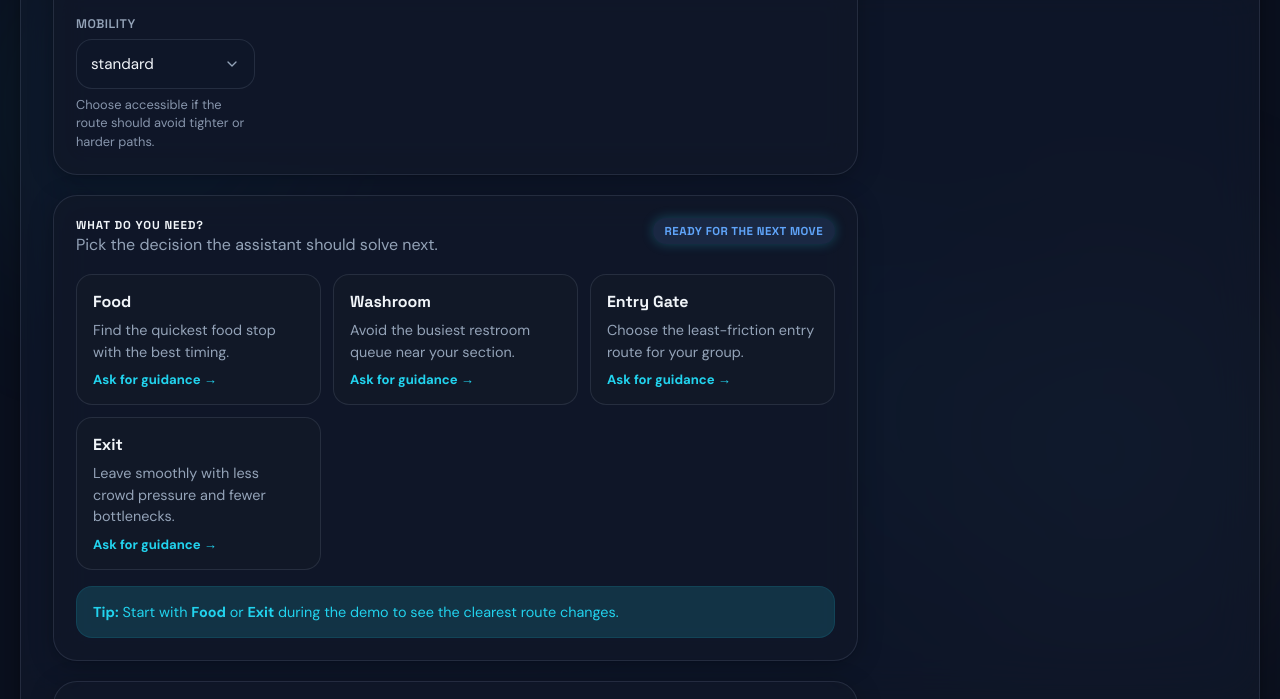
Test: App behavior › shows a request failure banner when recommendation lookup fails
The image size is (1280, 699).
(page scrolled)
Click the button that starts with "Food".
click(198, 340)  # box [76, 274, 321, 405]
(page scrolled)
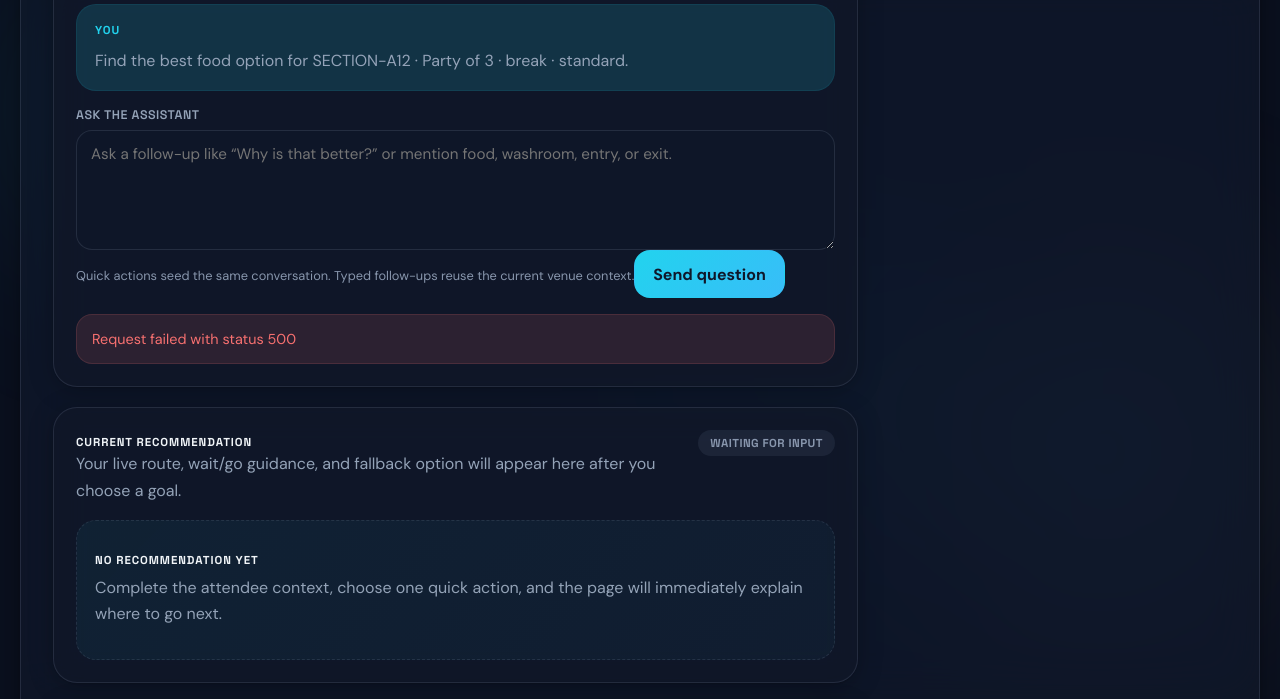
Expected: the text "Request failed with status 500" is shown, [76, 314, 835, 364]
